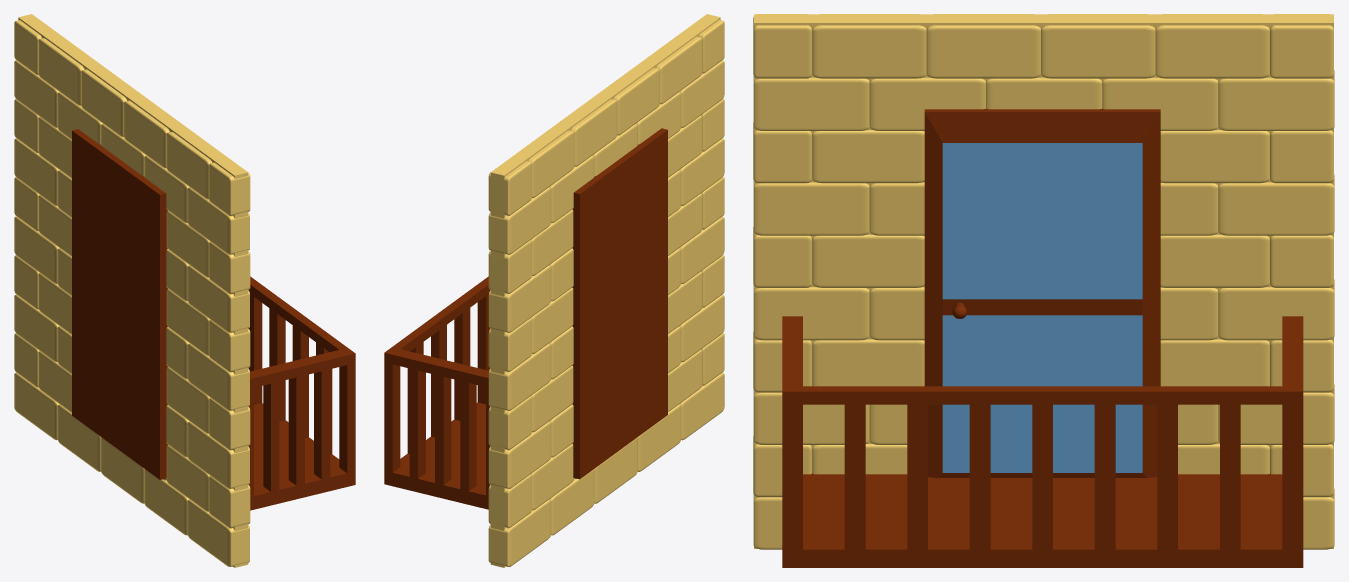
The model's file is balcony.fbx.
The picture shows the model from 3 angles, left to right: view 1: azimuth 30°, elevation 25°; view 2: azimuth 150°, elevation 25°; view 3: azimuth 270°, elevation 25°; orthographic projection. The views are drawn at different scales.
Visible parts, largest first — view 1: Cube.002, Cube, Cube.001; view 2: Cube.002, Cube, Cube.001; view 3: Cube.002, Cube, Cube.001.
Boxes of the visible parts, x1=… form: Cube.002: x1=14, y1=14, x2=250, y2=567; Cube: x1=72, y1=129, x2=167, y2=479; Cube.001: x1=248, y1=276, x2=355, y2=510; Cube.002: x1=488, y1=14, x2=724, y2=567; Cube: x1=572, y1=128, x2=667, y2=479; Cube.001: x1=384, y1=276, x2=490, y2=509; Cube.002: x1=753, y1=14, x2=1334, y2=549; Cube: x1=924, y1=108, x2=1160, y2=477; Cube.001: x1=782, y1=316, x2=1303, y2=567.
Size of the model in its own units: 76.03 by 200 by 200.
